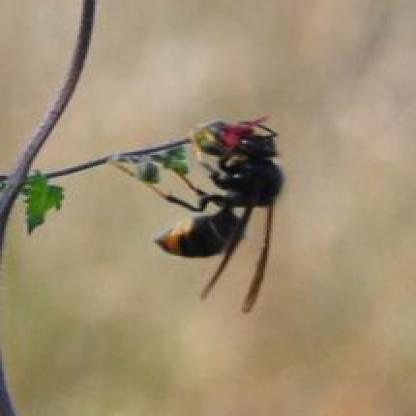Asian Hornet: (152, 114, 289, 314)
